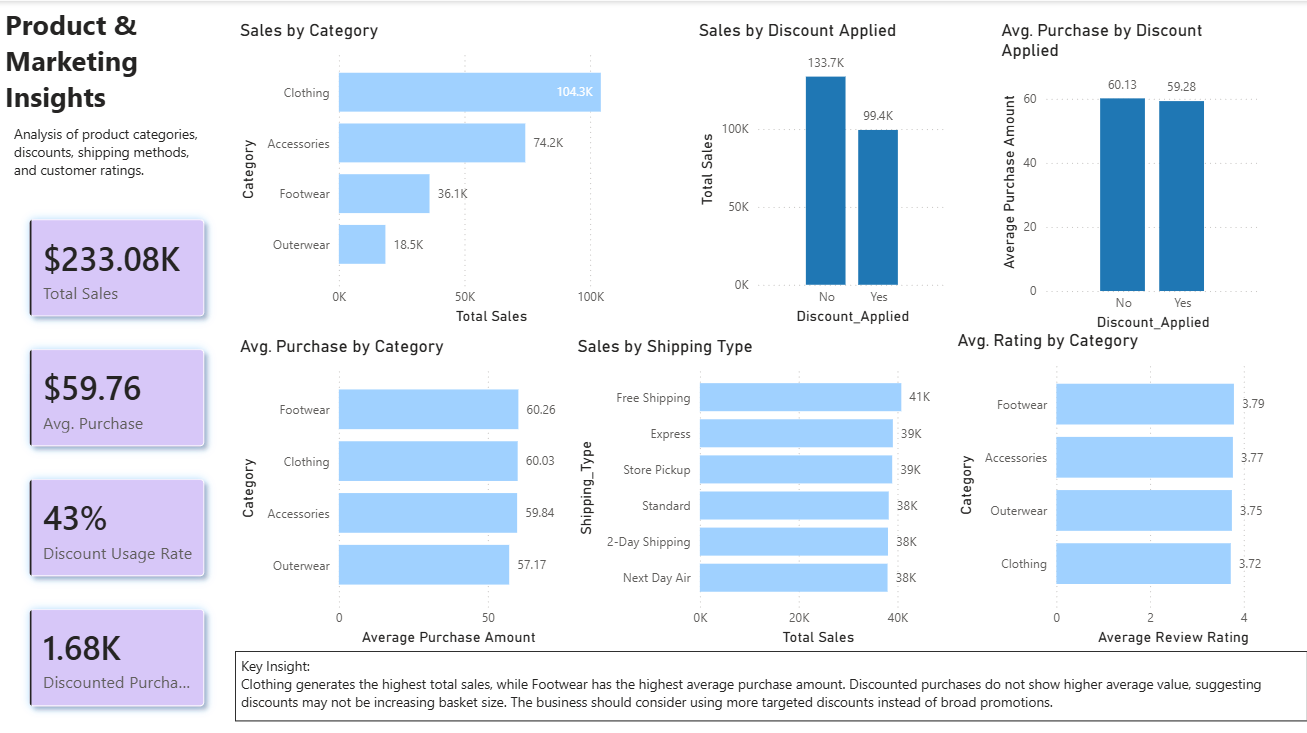

What the dashboard file says about the page in this screenshot:
{"tool":"powerbi","page":{"name":"Product & Marketing ","canvas":[1280,720],"ordinal":2},"visuals":[{"type":"cardVisual","fields":{"Data":["Measures (2).Total Sales","Measures (2).Average Purchase Amount","Measures (2).Discount Usage Rate","Measures (2).Discounted Purchases"]},"box":[0,184.6,229.9,535.6],"z":0},{"type":"clusteredBarChart","title":"Sales by Category","fields":{"Category":["shopping_trends_cleaned.Category"],"Y":["Measures (2).Total Sales"]},"box":[229.9,18.3,419.4,303.3],"z":1},{"type":"clusteredBarChart","title":"Avg. Purchase by Category","fields":{"Category":["shopping_trends_cleaned.Category"],"Y":["Measures (2).Average Purchase Amount"]},"box":[229.9,327.7,328.9,308.2],"z":2},{"type":"clusteredColumnChart","title":"Sales by Discount Applied","fields":{"Y":["Measures (2).Total Sales"],"Category":["shopping_trends_cleaned.Discount_Applied"]},"box":[678.7,18.3,253.1,303.3],"z":3},{"type":"clusteredColumnChart","title":"Avg. Purchase by Discount Applied","fields":{"Y":["Measures (2).Average Purchase Amount"],"Category":["shopping_trends_cleaned.Discount_Applied"]},"box":[974.6,18.3,262.9,309.4],"z":4},{"type":"clusteredBarChart","title":"Avg. Rating by Category","fields":{"Category":["shopping_trends_cleaned.Category"],"Y":["Measures (2).Average Review Rating"]},"box":[931.8,321.6,339.9,314.3],"z":5},{"type":"clusteredBarChart","title":"Sales by Shipping Type","fields":{"Category":["shopping_trends_cleaned.Shipping_Type"],"Y":["Measures (2).Total Sales"]},"box":[560.1,327.7,371.7,308.2],"z":6},{"type":"textbox","box":[229.9,635.9,1050.4,68.5],"z":7},{"type":"textbox","box":[0,0,181,116.2],"z":8},{"type":"textbox","box":[8.6,116.2,200.5,68.5],"z":9}]}

Visuals, with their boxes in screenshot pixels (x1, y1, x2, y2), scaled from the page's 1280x720 canvas onto the 1307x733 screenshot:
cardVisual - Measures (2).Total Sales x Measures (2).Average Purchase Amount: l=0, t=188, r=235, b=732
"Sales by Category" clusteredBarChart: l=235, t=19, r=663, b=327
"Avg. Purchase by Category" clusteredBarChart: l=235, t=334, r=571, b=647
"Sales by Discount Applied" clusteredColumnChart: l=693, t=19, r=951, b=327
"Avg. Purchase by Discount Applied" clusteredColumnChart: l=995, t=19, r=1264, b=334
"Avg. Rating by Category" clusteredBarChart: l=951, t=327, r=1299, b=647
"Sales by Shipping Type" clusteredBarChart: l=572, t=334, r=951, b=647
textbox: l=235, t=647, r=1306, b=717
textbox: l=0, t=0, r=185, b=118
textbox: l=9, t=118, r=214, b=188
